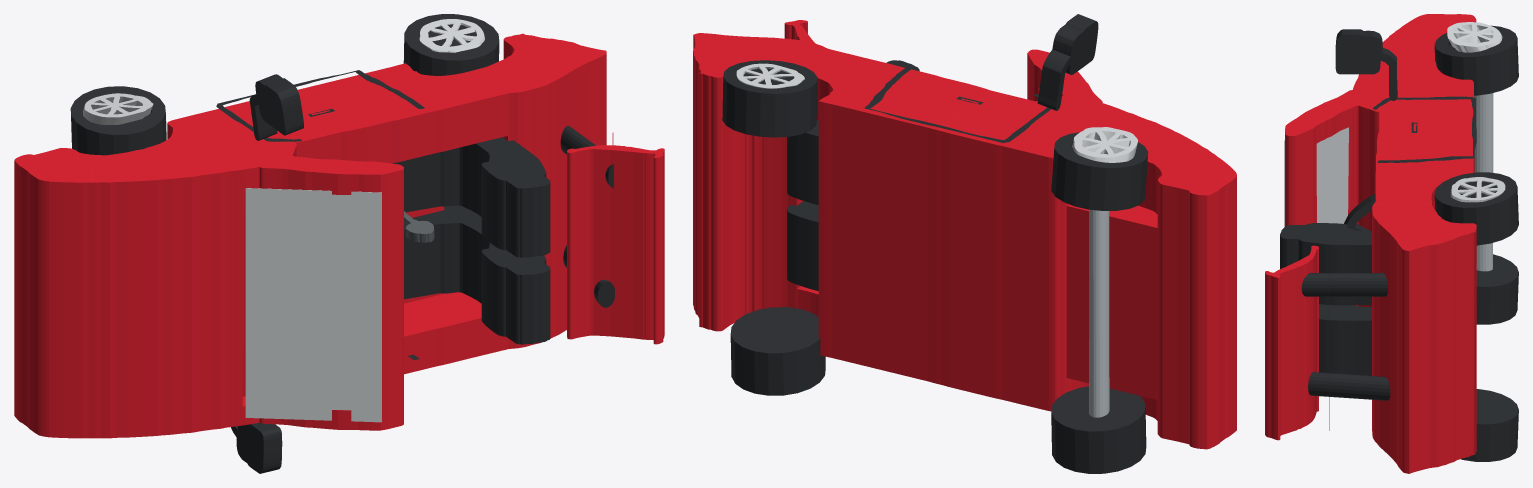
Rendered from tinker.obj.
The picture shows the model from 3 angles, left to right: view 1: azimuth 30°, elevation 25°; view 2: azimuth 150°, elevation 25°; view 3: azimuth 270°, elevation 25°; orthographic projection. The views are drawn at different scales.
Visible parts, largest first — view 1: group_0_15277357, group_0_2829873, group_0_14541540; view 2: group_0_15277357, group_0_2829873, group_0_12568524, group_0_14541540; view 3: group_0_15277357, group_0_2829873, group_0_14541540, group_0_12568524.
Part boxes in pixels (bbox=[...]): group_0_15277357: bbox=[14, 33, 664, 438]; group_0_2829873: bbox=[70, 14, 614, 473]; group_0_14541540: bbox=[83, 19, 484, 422]; group_0_15277357: bbox=[693, 20, 1236, 449]; group_0_2829873: bbox=[722, 14, 1148, 473]; group_0_12568524: bbox=[1089, 209, 1109, 417]; group_0_14541540: bbox=[736, 63, 1137, 162]; group_0_15277357: bbox=[1265, 14, 1476, 473]; group_0_2829873: bbox=[1280, 25, 1518, 461]; group_0_14541540: bbox=[1284, 22, 1505, 226]; group_0_12568524: bbox=[1474, 93, 1493, 271].
Size of the model in its own units: 135 by 87 by 60.95.
